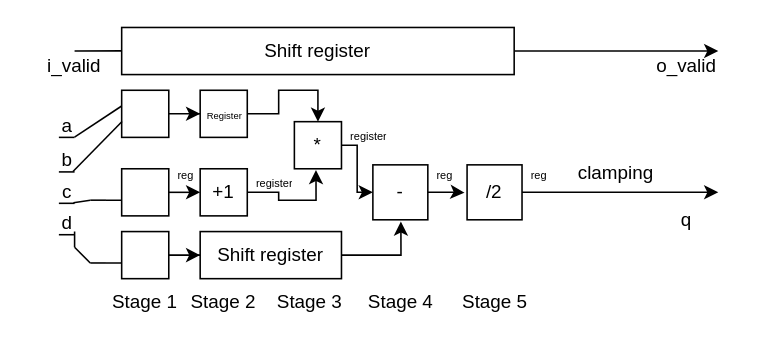
This 760x353 diagram has some shape labels left out. Here are the shapes that lost their labels. From the top down, the centre of each, then its label:
At point (144, 113): "a-b".
At point (144, 191): "3*c".
At point (144, 254): "4*d".
